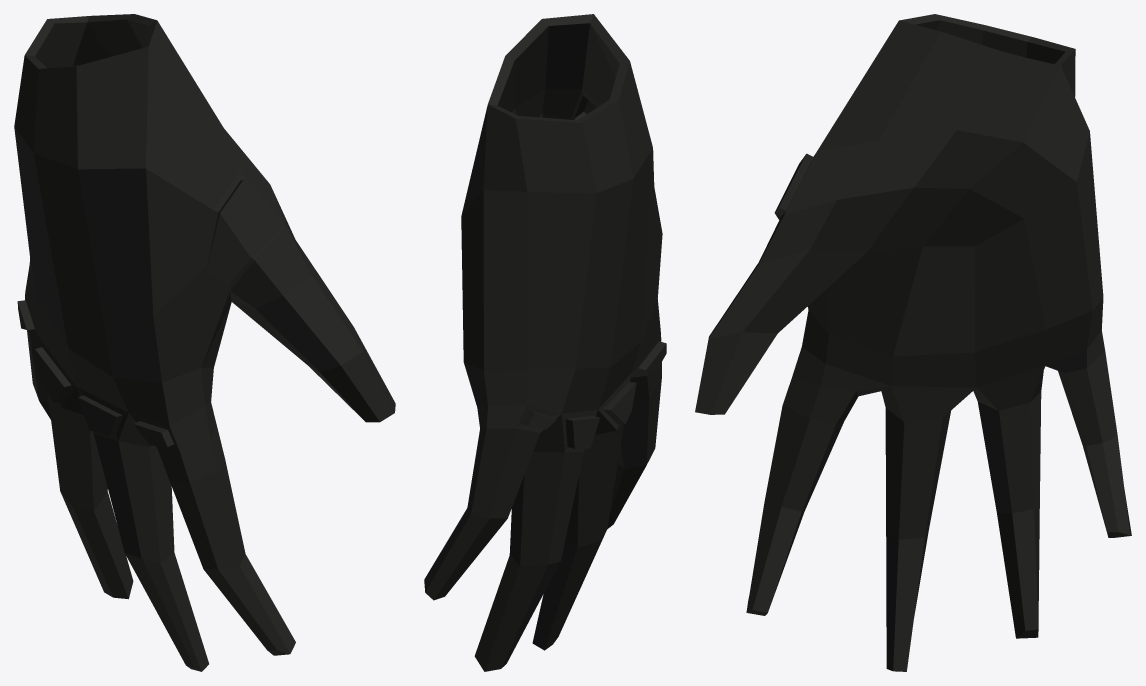
The model's file is GauntletRight_01.fbx.
3 views of the same model, side by side, from view 1: azimuth 30°, elevation 25°; view 2: azimuth 150°, elevation 25°; view 3: azimuth 270°, elevation 25° (orthographic). The views are drawn at different scales.
Visible parts, largest first — view 1: GauntletRight_01; view 2: GauntletRight_01; view 3: GauntletRight_01.
Boxes of the visible parts, <box> form: GauntletRight_01: <box>14,14,395,671</box>; GauntletRight_01: <box>424,14,666,671</box>; GauntletRight_01: <box>695,14,1131,671</box>.
Size of the model in its own units: 7.58 by 20.21 by 12.65.
